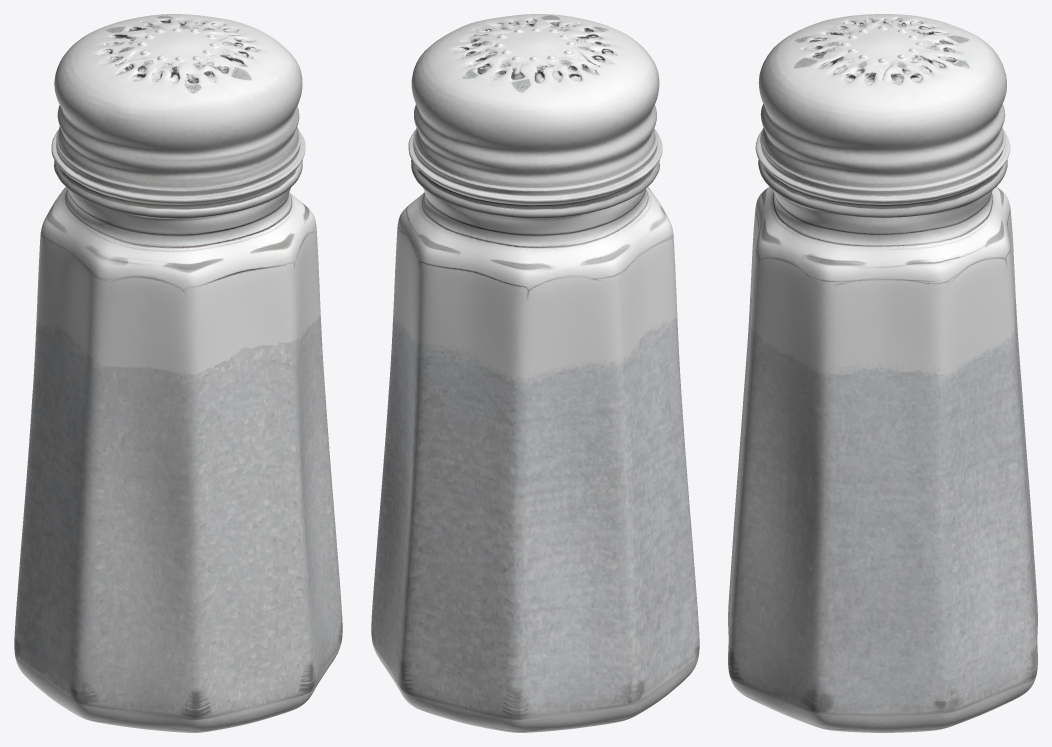
The model's file is salt.glb.
3 views of the same model, side by side, from view 1: azimuth 30°, elevation 25°; view 2: azimuth 150°, elevation 25°; view 3: azimuth 270°, elevation 25° (orthographic).
Bounding box in the file's own units: 0.8381 × 1.9 × 0.8381.
Materials: 1 (1 with a texture image).
